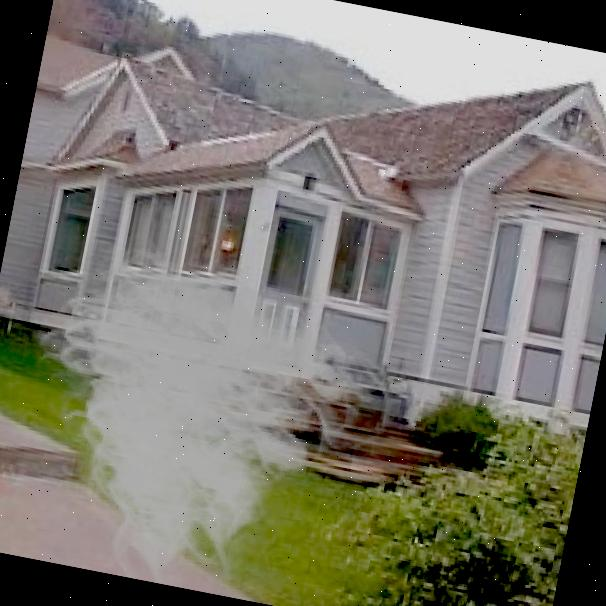smoke: (0, 207, 431, 606)
